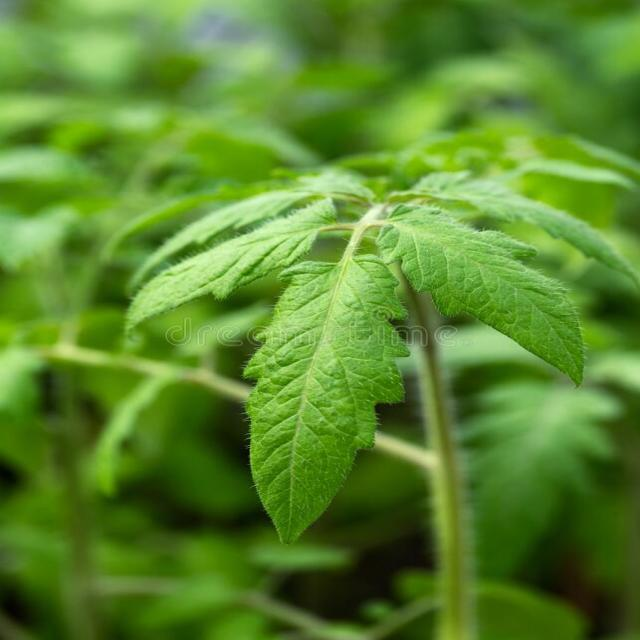Healthy Leaf: (254, 260, 407, 553), (377, 206, 602, 379), (121, 186, 335, 332)
